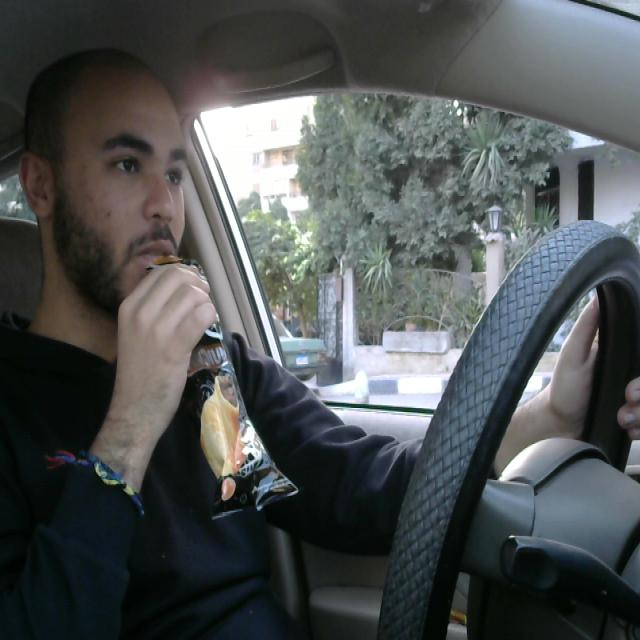eating: (146, 250, 302, 523)
